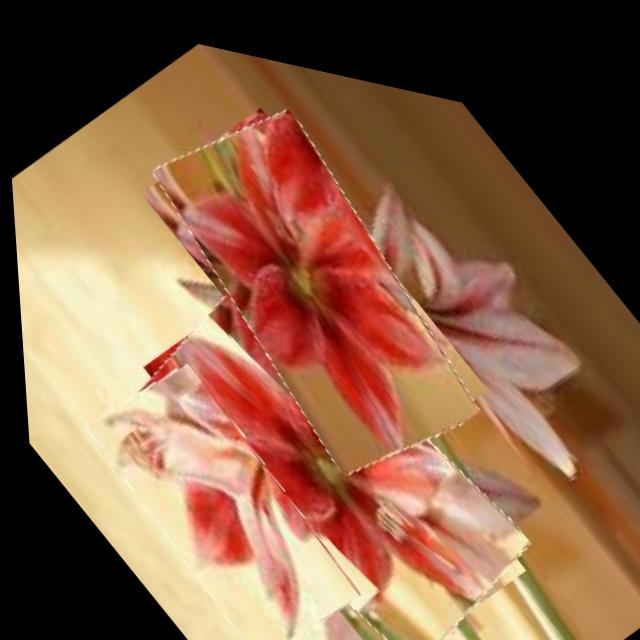Flower: (116, 210, 543, 640), (119, 57, 506, 497), (68, 333, 365, 640)
